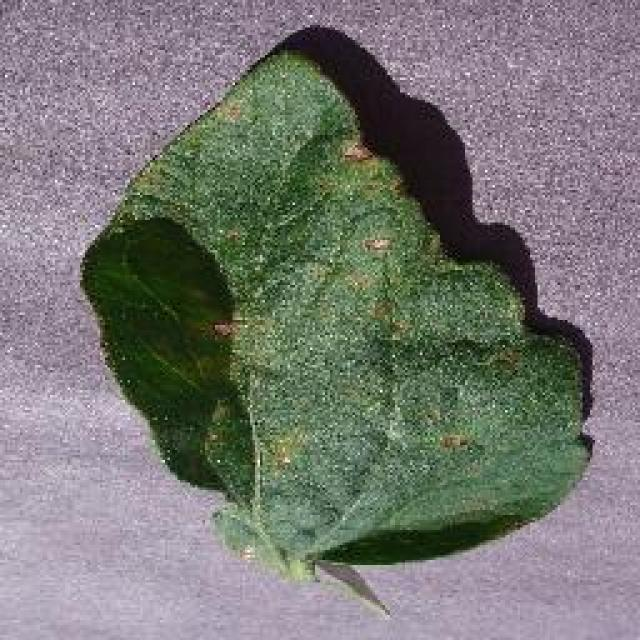Tomato___Target_Spot: (85, 48, 585, 575)
